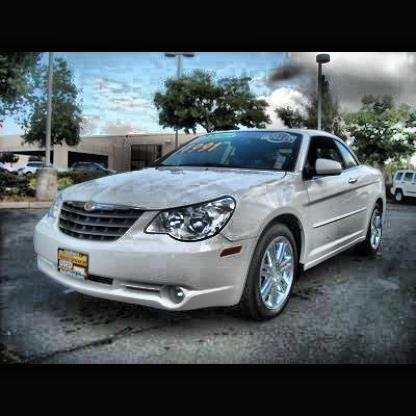Chrysler Sebring Convertible 2010: (36, 130, 391, 322)
